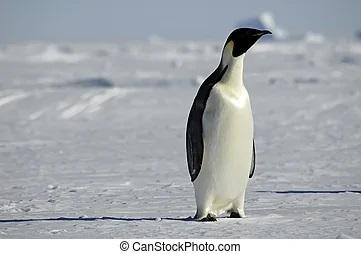emporer: (153, 12, 285, 233)
